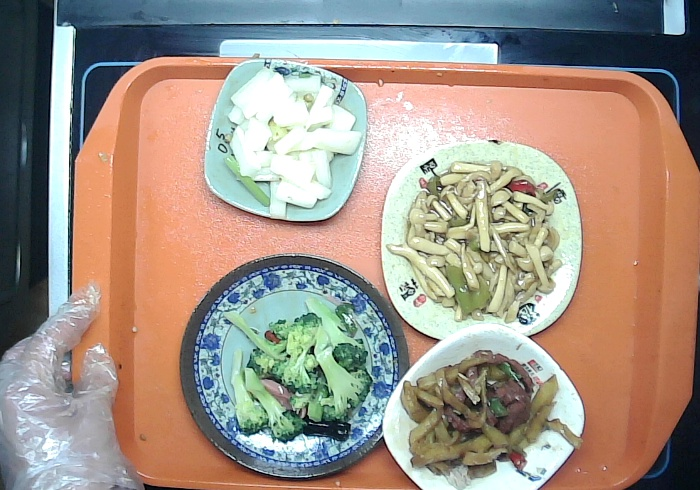NLDX-Bai_Se_Xiao_Fang_Die: (381, 319, 587, 490)
NLDX-Fu_Zi_Fang_Die: (377, 138, 585, 341)
NLDX-Qing_Hua_Xiao_Fang_Die: (201, 56, 369, 227)
NLDX-Qing_Hua_Yuan_Die: (177, 249, 413, 479)
